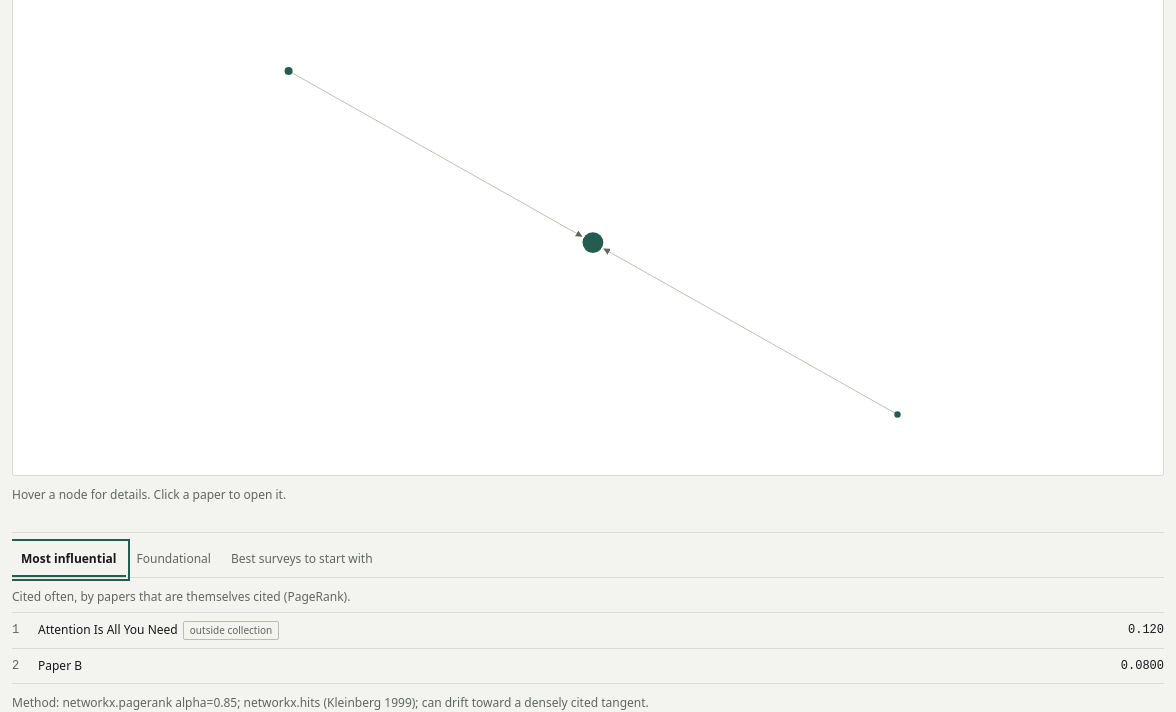
Test: citation graph ranked views › switches between the three ranked views with the keyboard
The width and height of the screenshot is (1176, 712).
(page scrolled)
Expected: the panel shows "Attention Is All You Need", [38,620,178,638]
Press Arrowright
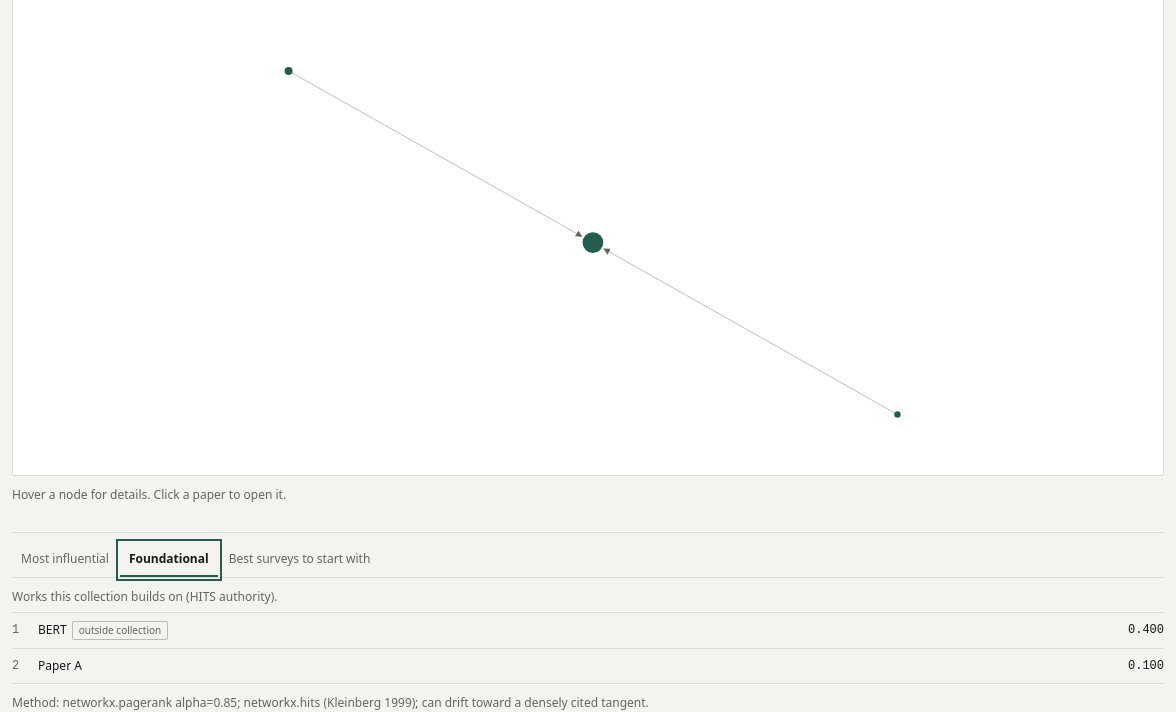
Result: the panel shows "BERT" at [38,620,67,638]
Click the tab "Best surveys to start with": (300, 560) [220,542,379,576]
(page scrolled)
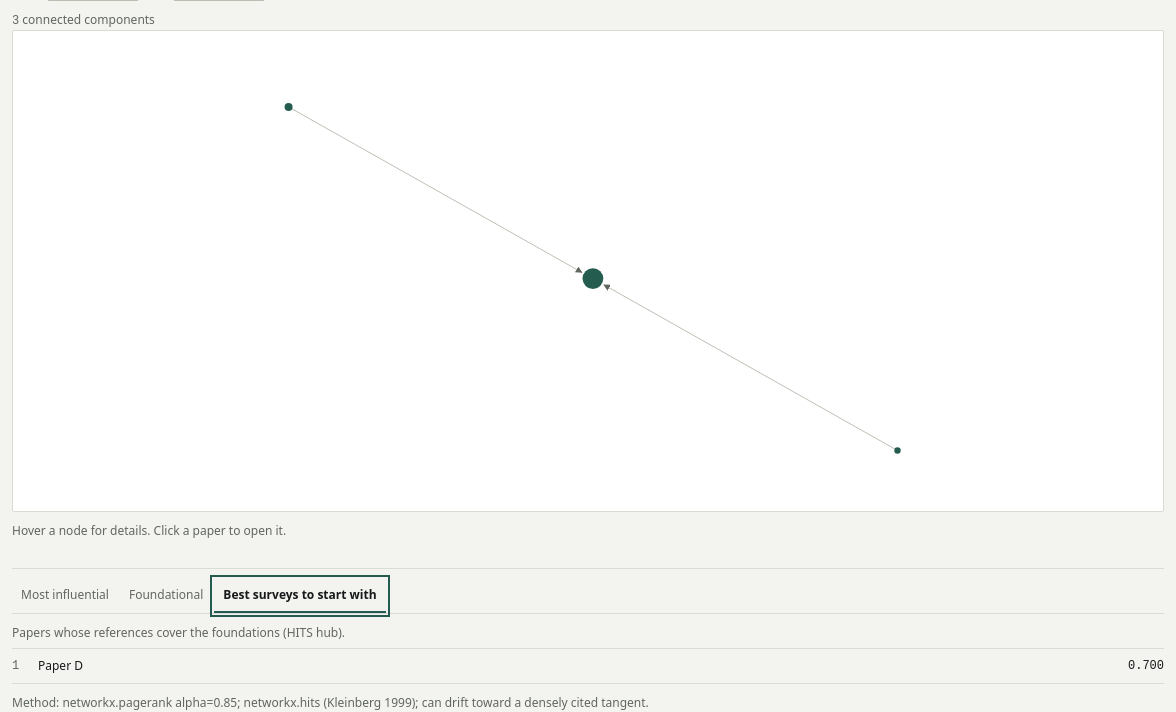
Expected: the text "can drift toward a densely cited tangent" is shown once, [12,682,1164,711]
Result: the panel shows "Paper D" at [38,656,1120,674]
